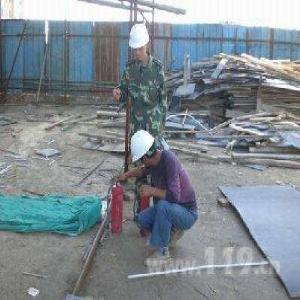white: (132, 130, 157, 173), (128, 26, 150, 62)
